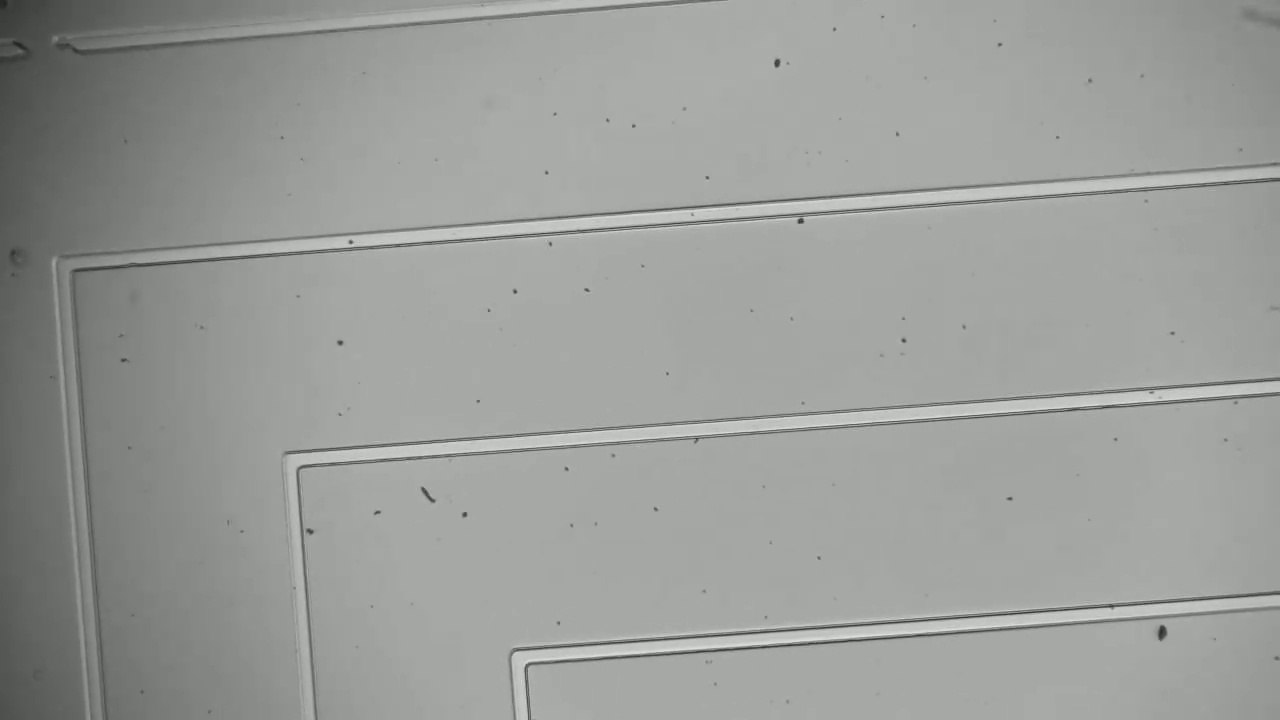open: (0, 11, 96, 81)
